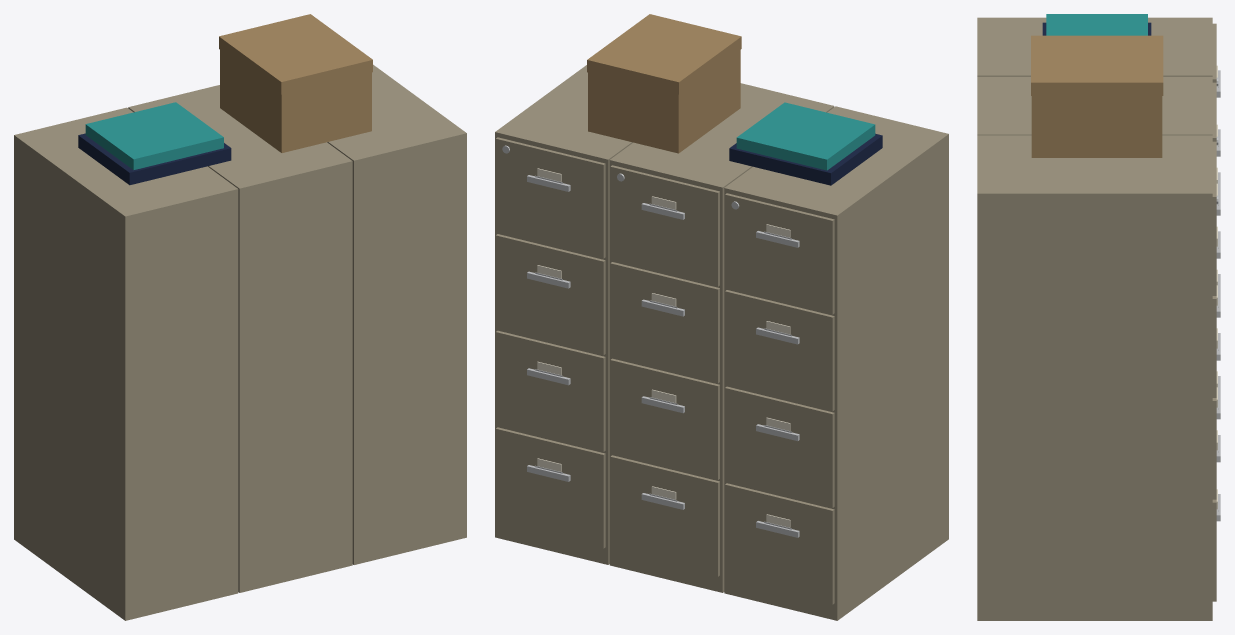
File: SM_80s_FileBank.glb
The picture shows the model from 3 angles, left to right: view 1: azimuth 30°, elevation 25°; view 2: azimuth 150°, elevation 25°; view 3: azimuth 270°, elevation 25°; orthographic projection. The views are drawn at different scales.
Parts seen in each view (by area): view 1: SM_80s_FileBank; view 2: SM_80s_FileBank; view 3: SM_80s_FileBank.
Boxes of the visible parts, x1,y1,x2,y2 form: SM_80s_FileBank: (14,14,466,620); SM_80s_FileBank: (495,14,948,620); SM_80s_FileBank: (977,14,1220,620).
Size of the model in its own units: 1.52 by 2.02 by 0.8852.
